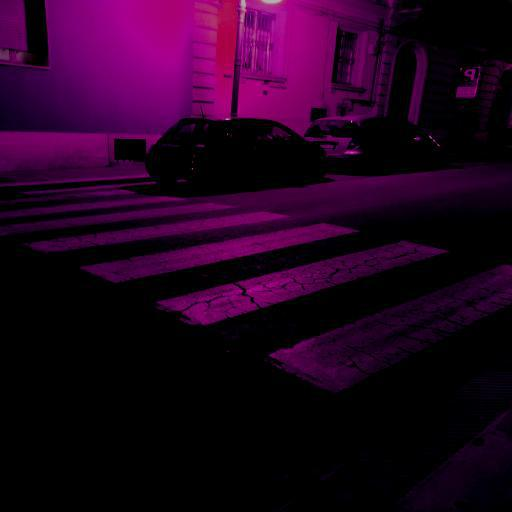crosswalk: (17, 207, 362, 287)
